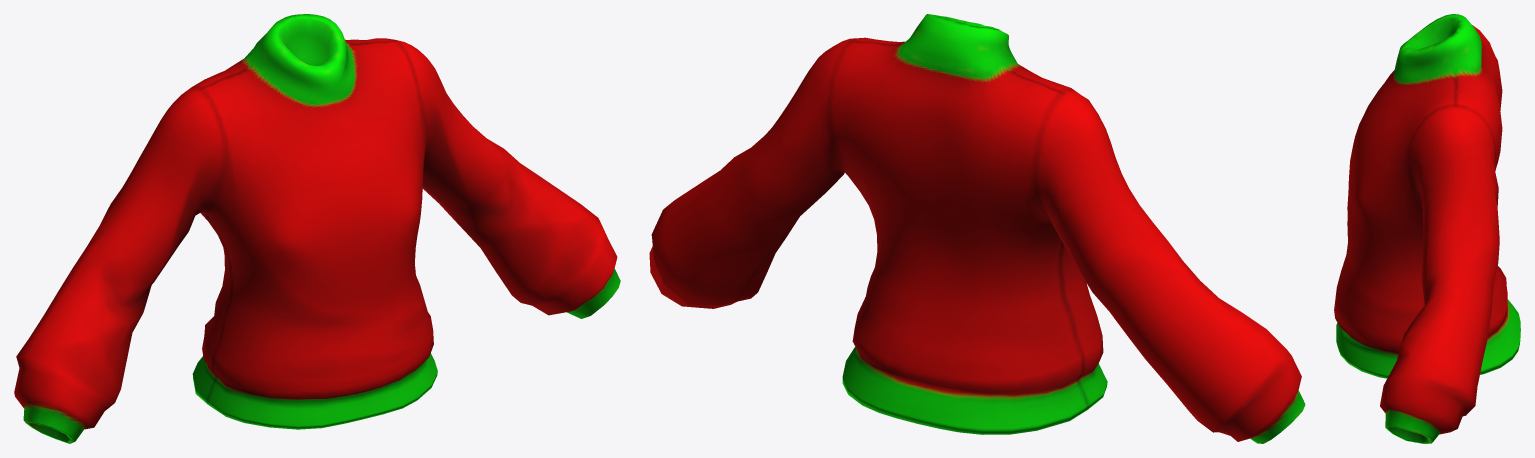
File: Top_Turtleneck.obj
The picture shows the model from 3 angles, left to right: view 1: azimuth 30°, elevation 25°; view 2: azimuth 150°, elevation 25°; view 3: azimuth 270°, elevation 25°; orthographic projection. The views are drawn at different scales.
Parts seen in each view (by area): view 1: Top_Turtleneck_0; view 2: Top_Turtleneck_0; view 3: Top_Turtleneck_0.
Boxes of the visible parts, x1=… form: Top_Turtleneck_0: x1=14, y1=14, x2=620, y2=443; Top_Turtleneck_0: x1=649, y1=14, x2=1305, y2=443; Top_Turtleneck_0: x1=1334, y1=14, x2=1520, y2=443.
Size of the model in its own units: 0.9096 by 0.5176 by 0.2784.
1 material, 1 textured.
